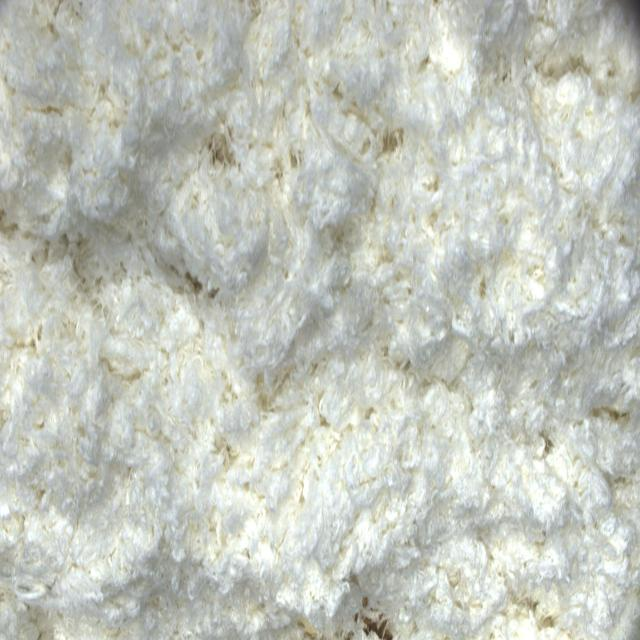dust: (356, 593, 397, 640)
